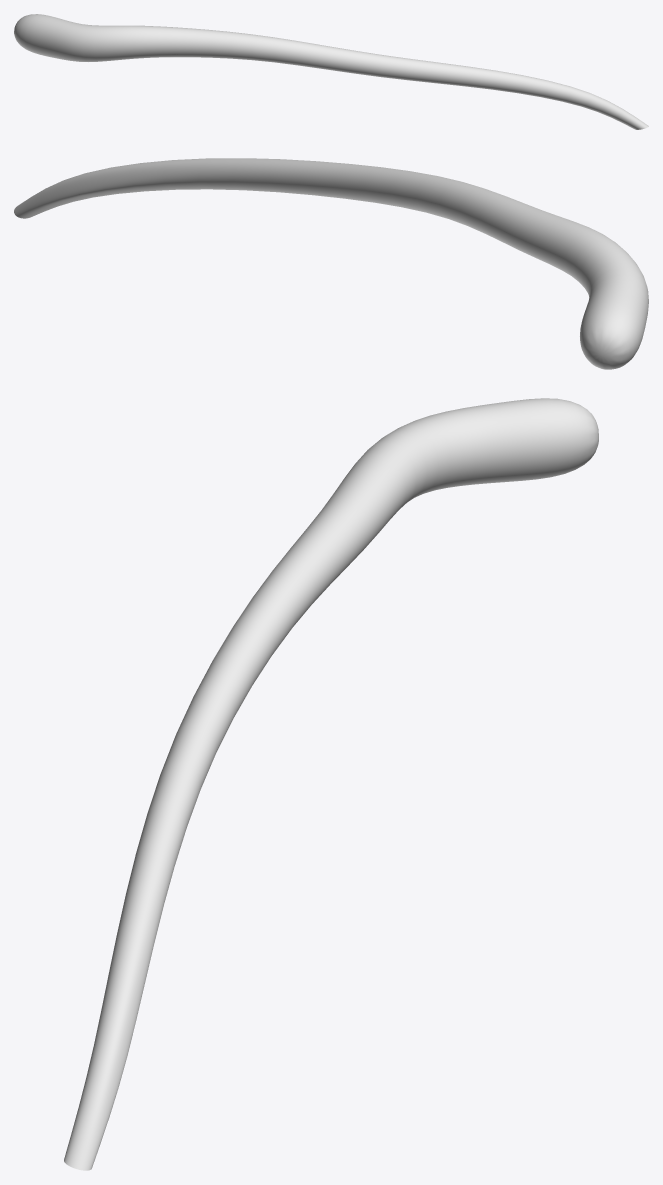
3 renders of one model, top to bottom at view 1: azimuth 30°, elevation 25°; view 2: azimuth 150°, elevation 25°; view 3: azimuth 270°, elevation 25°, orthographic. The views are drawn at different scales.
Visible parts, largest first — view 1: BezierCurve.009; view 2: BezierCurve.009; view 3: BezierCurve.009.
Part boxes in pixels (x1,y1,x2,y2): BezierCurve.009: (14,14,648,129); BezierCurve.009: (14,158,648,369); BezierCurve.009: (64,398,598,1170).
Bounding box in the file's own units: 3.2 × 0.9065 × 1.46.
Materials: 1 (1 with a texture image).
